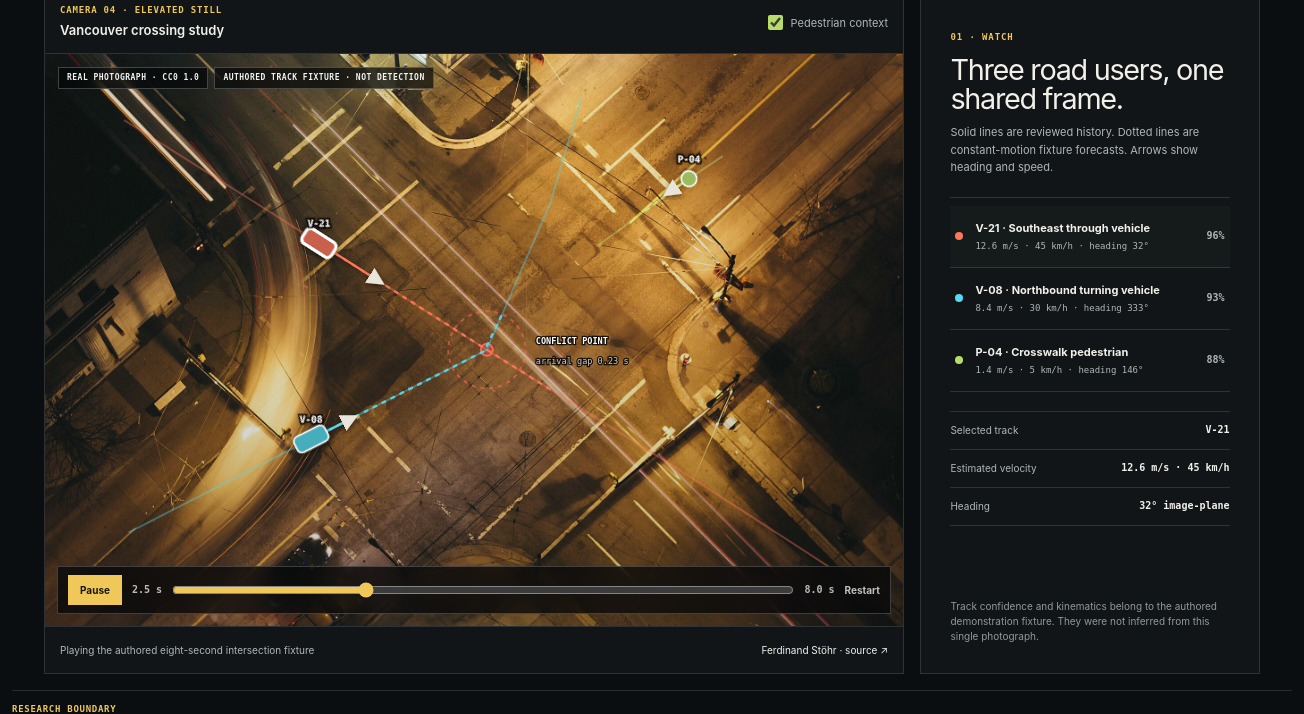
Scenario: Motion Forecasting controls › selects actors and moves selection when pedestrian context is hidden
This screenshot has width=1304, height=714.
(page scrolled)
Click the button "P-04 · Crosswalk pedestrian".
click(1090, 361)  # box [950, 330, 1230, 392]
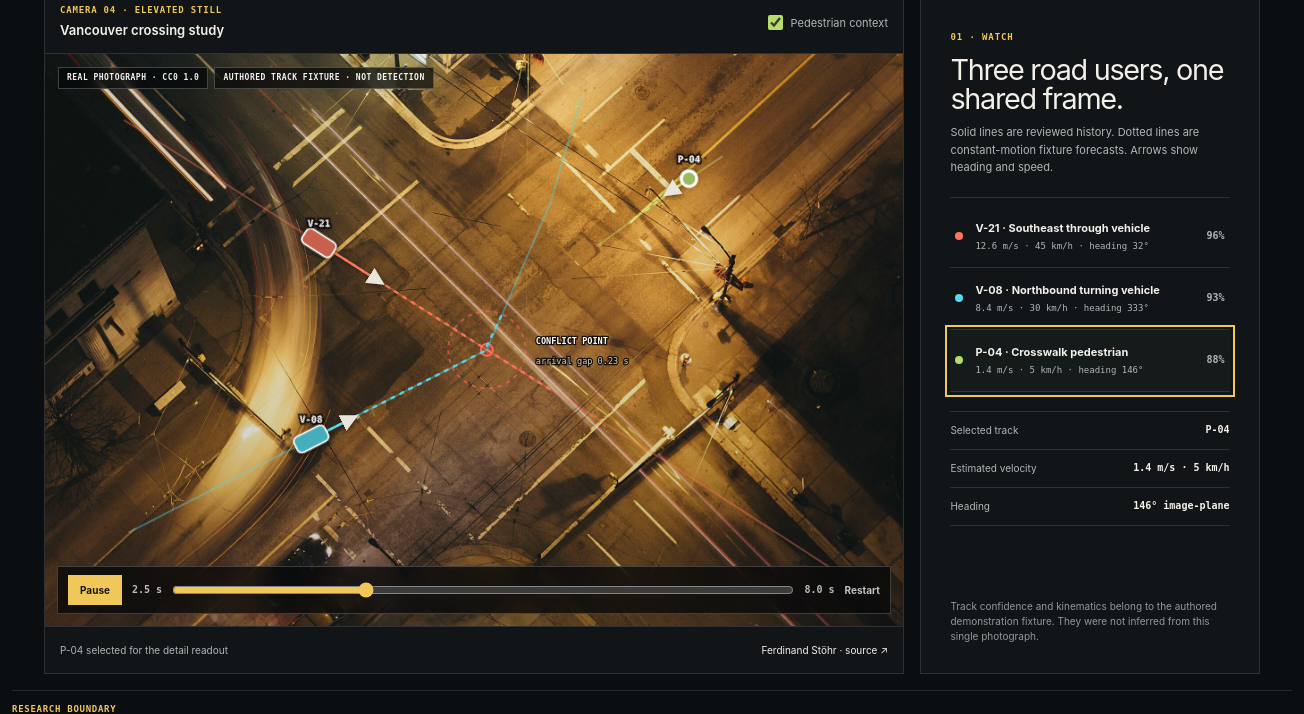
Now the text "P-04" is shown, box [1206, 425, 1230, 435]
Click the checkbox labelled "Pedestrian context".
click(775, 23)  # box [768, 15, 782, 30]
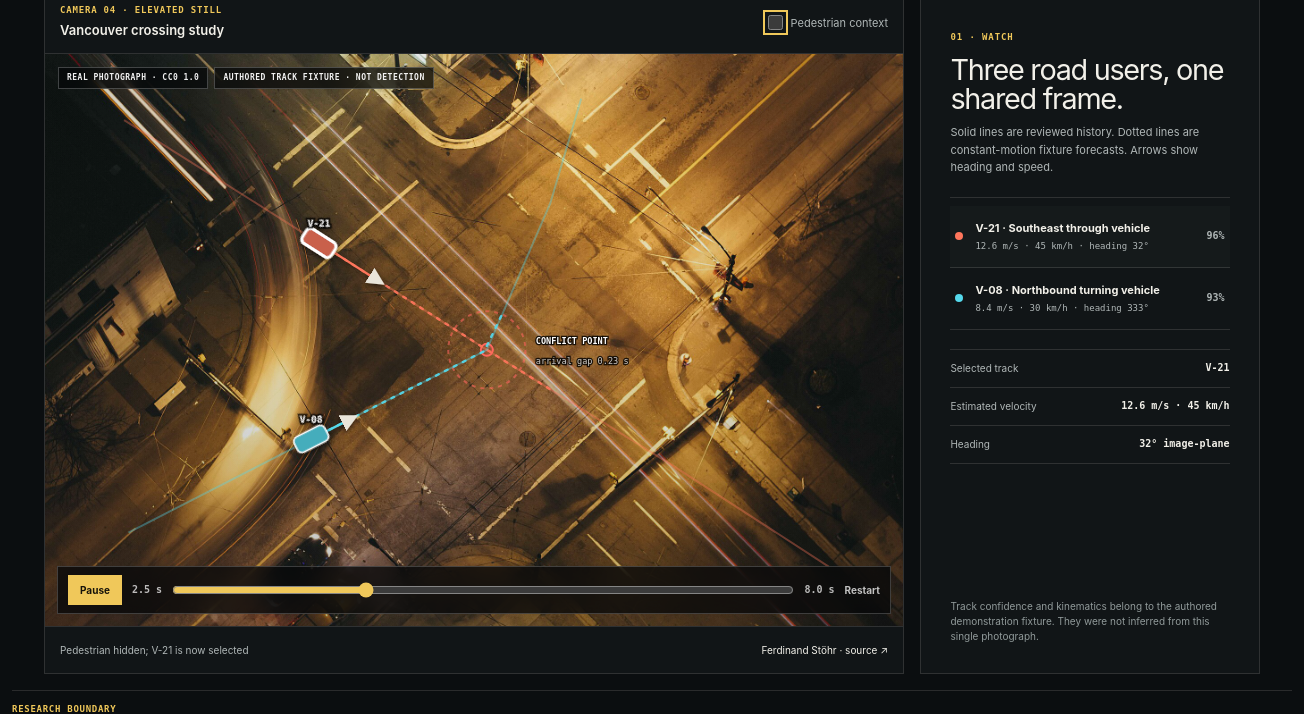
Now the button "P-04 · Crosswalk pedestrian" is gone
Now the text "V-21" is shown, box [1206, 363, 1230, 373]
Now the message reads "Pedestrian hidden; V-21 is now selected", box [60, 644, 248, 656]
